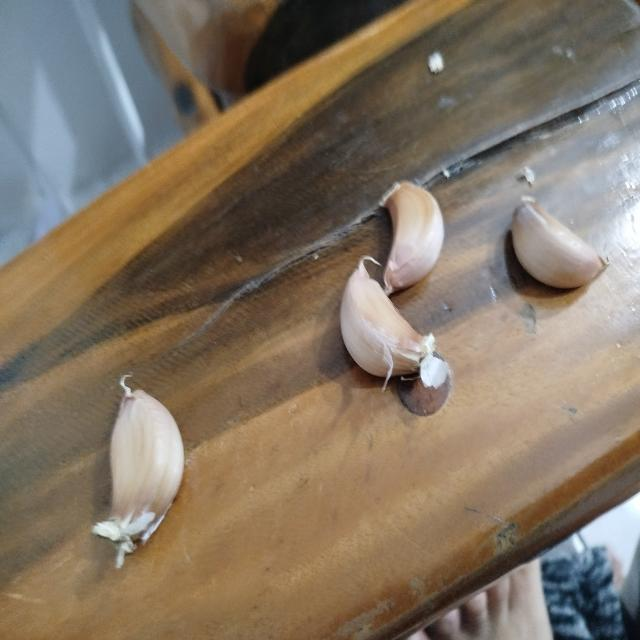garlic: (92, 372, 185, 570), (339, 254, 449, 393), (510, 195, 607, 289), (380, 180, 444, 295)
